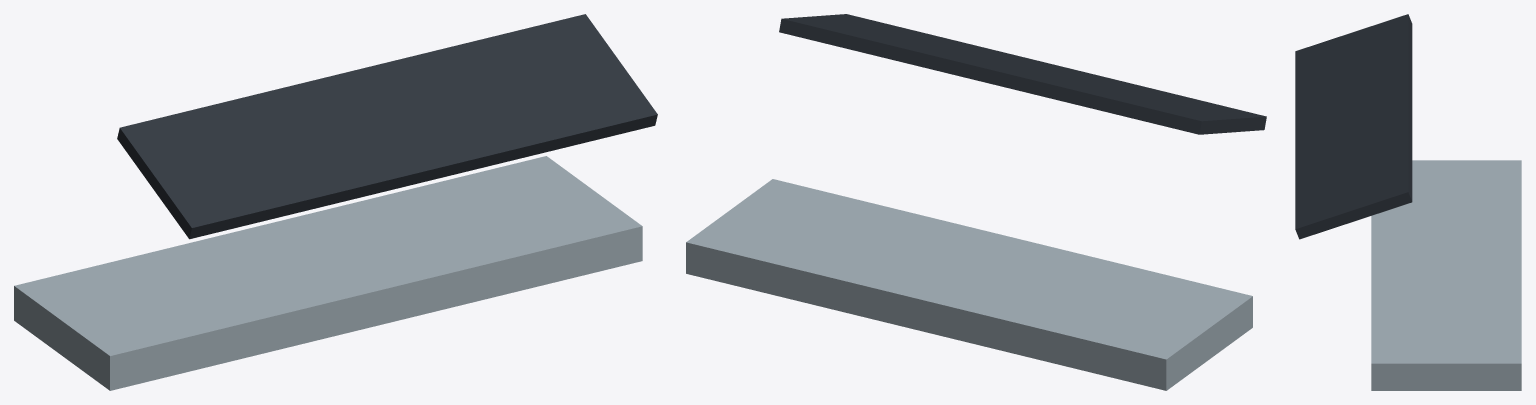
The model's file is solar-charging-bench.glb.
3 views of the same model, side by side, from view 1: azimuth 30°, elevation 25°; view 2: azimuth 150°, elevation 25°; view 3: azimuth 270°, elevation 25° (orthographic). The views are drawn at different scales.
Visible parts, largest first — view 1: SolarBench_Seat, SolarBench_Panel; view 2: SolarBench_Seat, SolarBench_Panel; view 3: SolarBench_Seat, SolarBench_Panel.
Boxes of the visible parts, box(x1,y1,x2,y2) form: SolarBench_Seat: box(14, 156, 642, 390); SolarBench_Panel: box(117, 14, 657, 239); SolarBench_Seat: box(686, 179, 1252, 390); SolarBench_Panel: box(779, 14, 1266, 134); SolarBench_Seat: box(1371, 160, 1521, 390); SolarBench_Panel: box(1295, 14, 1412, 239).
Size of the model in its own units: 1.6 by 0.6829 by 0.7526.
